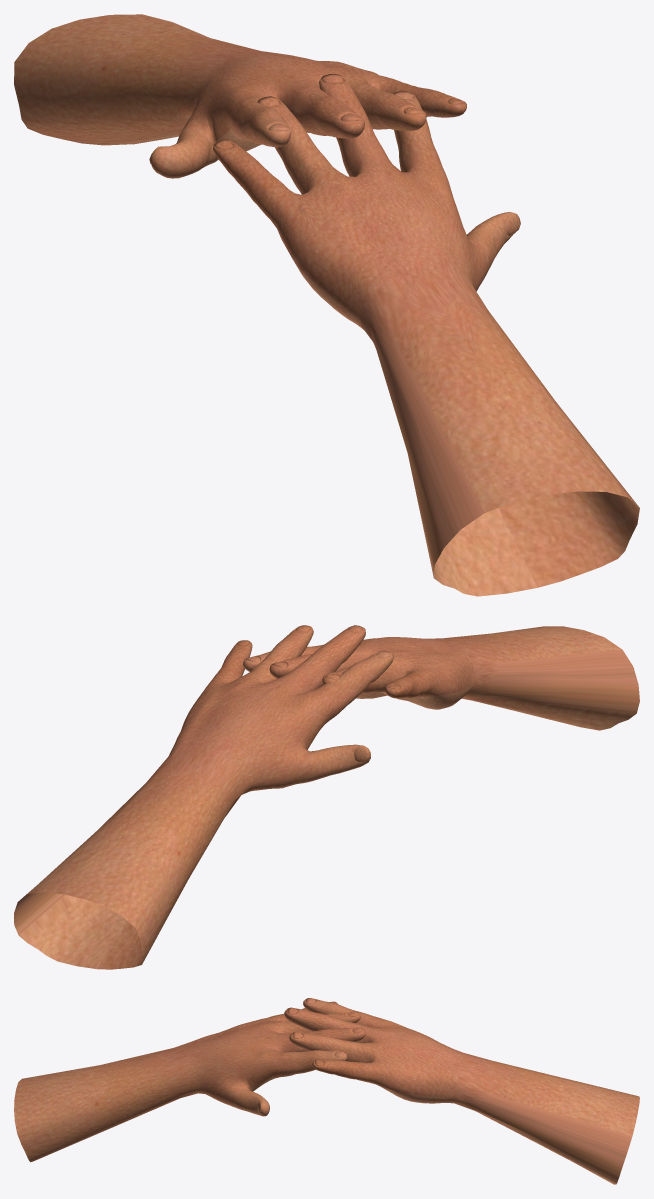
File: hands_000066.obj
3 views of the same model, one above another, from view 1: azimuth 30°, elevation 25°; view 2: azimuth 150°, elevation 25°; view 3: azimuth 270°, elevation 25° (orthographic). The views are drawn at different scales.
Visible parts, largest first — view 1: hand.001_Mesh.001, hand_Mesh; view 2: hand_Mesh, hand.001_Mesh.001; view 3: hand_Mesh, hand.001_Mesh.001.
Part boxes in pixels (x1,y1,x2,y2): hand.001_Mesh.001: [213, 74, 639, 596]; hand_Mesh: [14, 14, 466, 178]; hand_Mesh: [14, 625, 393, 969]; hand.001_Mesh.001: [243, 626, 639, 730]; hand_Mesh: [284, 998, 639, 1184]; hand.001_Mesh.001: [14, 1001, 365, 1162].
Size of the model in its own units: 1.71 by 1.48 by 5.37.
1 material, 1 textured.
